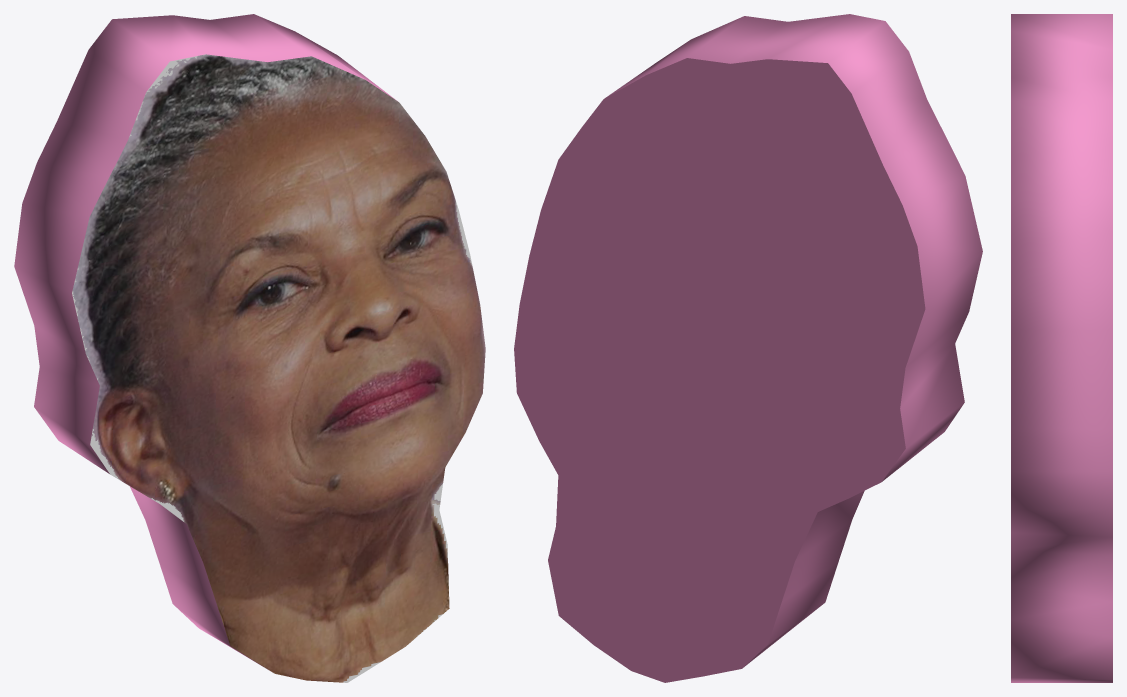
The model's file is Christiane_Taubira.glb.
3 renders of one model, left to right at view 1: azimuth 30°, elevation 25°; view 2: azimuth 150°, elevation 25°; view 3: azimuth 270°, elevation 25°, orthographic. The views are drawn at different scales.
Visible parts, largest first — view 1: Curve; view 2: Curve; view 3: Curve.
Part boxes in pixels (<box>): Curve: <box>14,14,485,682</box>; Curve: <box>514,14,982,682</box>; Curve: <box>1011,14,1112,682</box>.
Bounding box in the file's own units: 0.6187 × 0.9498 × 0.1496.
Materials: 2 (1 with a texture image).
